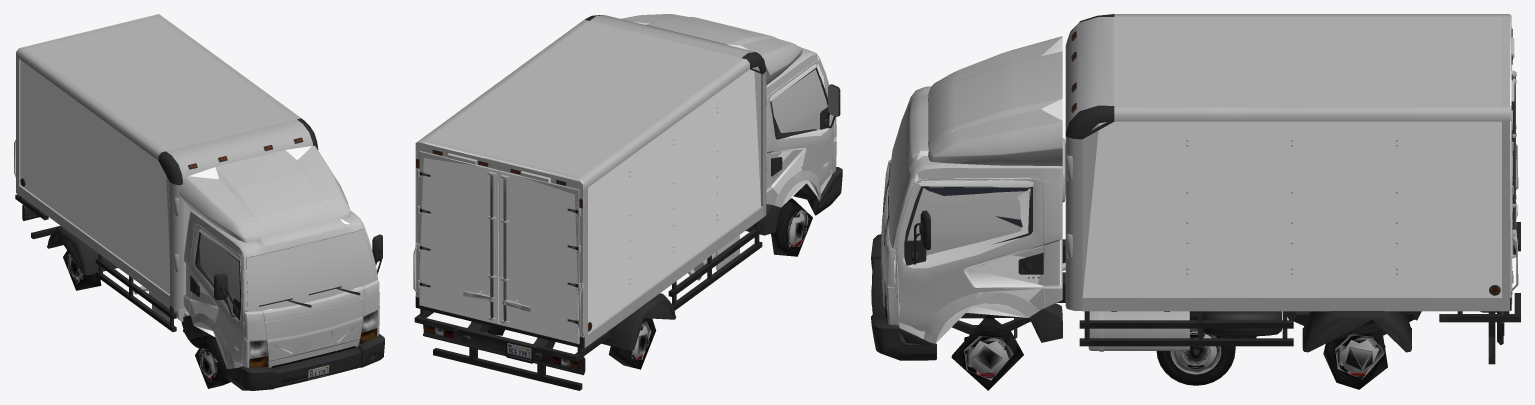
The model's file is truck.glb.
3 renders of one model, left to right at view 1: azimuth 30°, elevation 25°; view 2: azimuth 150°, elevation 25°; view 3: azimuth 270°, elevation 25°, orthographic. The views are drawn at different scales.
Parts seen in each view (by area): view 1: paint0, far, kit0, kit1, paint1, glass1, glass0; view 2: far, paint0, kit1, kit0, paint1, glass0, glass1; view 3: far, paint0, kit0, kit1, paint1, glass0, glass1, wheel0, wheel1.
Boxes of the visible parts, <box> form: paint0: <box>26,17,379,368</box>; far: <box>16,60,374,388</box>; kit0: <box>14,48,384,390</box>; kit1: <box>14,14,382,389</box>; paint1: <box>183,152,379,368</box>; glass1: <box>201,229,375,311</box>; glass0: <box>199,229,375,311</box>; far: <box>415,22,836,389</box>; paint0: <box>415,14,836,344</box>; kit1: <box>414,15,838,390</box>; kit0: <box>413,15,842,390</box>; paint1: <box>416,14,836,337</box>; glass0: <box>772,69,827,132</box>; glass1: <box>771,80,826,132</box>; far: <box>873,22,1520,390</box>; paint0: <box>882,14,1514,343</box>; kit0: <box>871,14,1520,360</box>; kit1: <box>871,14,1520,364</box>; paint1: <box>883,18,1514,342</box>; glass0: <box>887,114,1029,255</box>; glass1: <box>887,103,1029,246</box>; wheel0: <box>1156,311,1235,385</box>; wheel1: <box>1165,329,1226,385</box>.
Size of the model in its own units: 2.43 by 3.19 by 5.86.
Materials: 1 (1 with a texture image).
